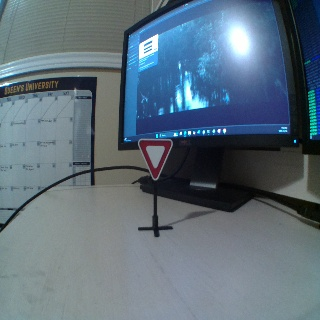sign_yield: (137, 138, 172, 177)
